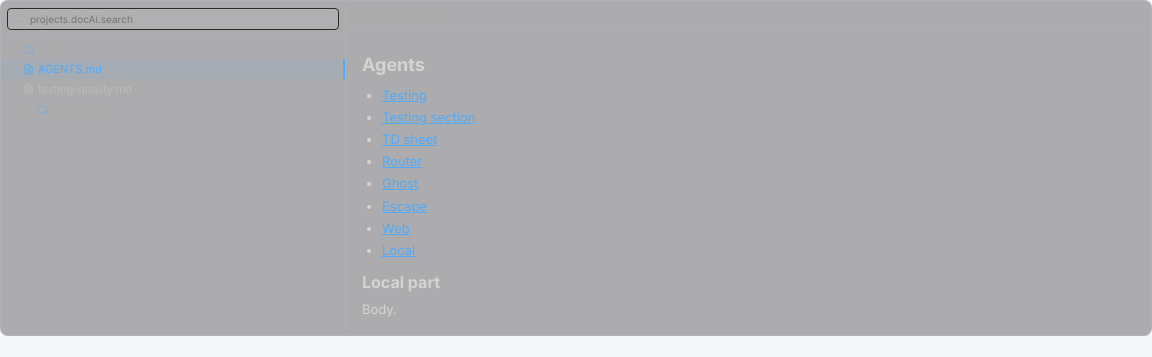
it: AiDocViewer — in-app doc links › resolves a link against the current doc folder
Expected: the heading "Agents" is shown, 362,54 -> 425,75
Click the link "TD sheet".
click(410, 139)  # box 382,131 -> 437,147
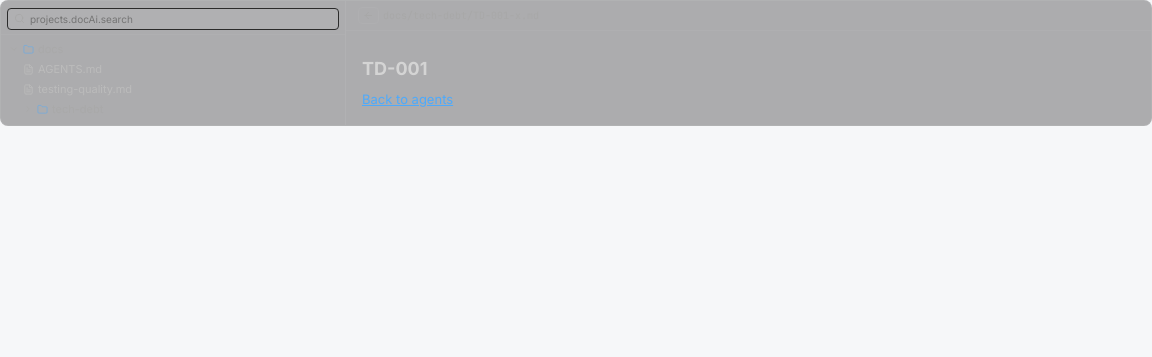
Expected: the heading "TD-001" is shown, 362,58 -> 428,79
Click the link "Back to agents".
click(408, 99)  # box 362,91 -> 453,107
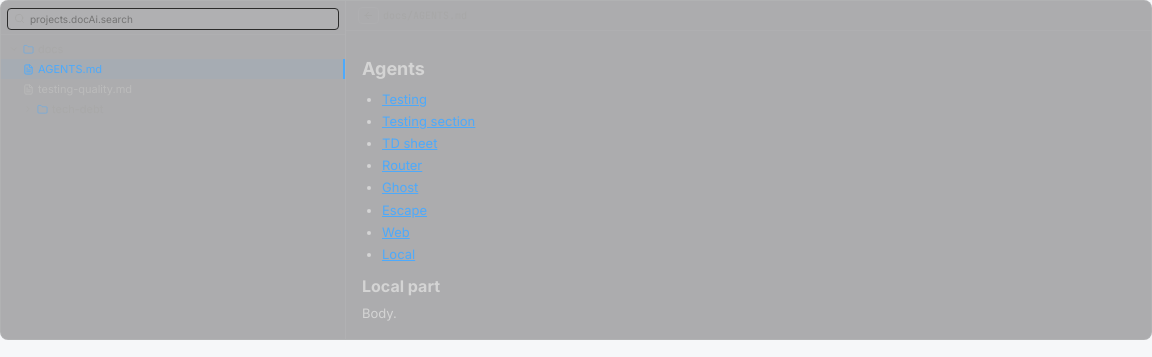
Expected: the heading "Agents" is shown, 362,58 -> 425,79
